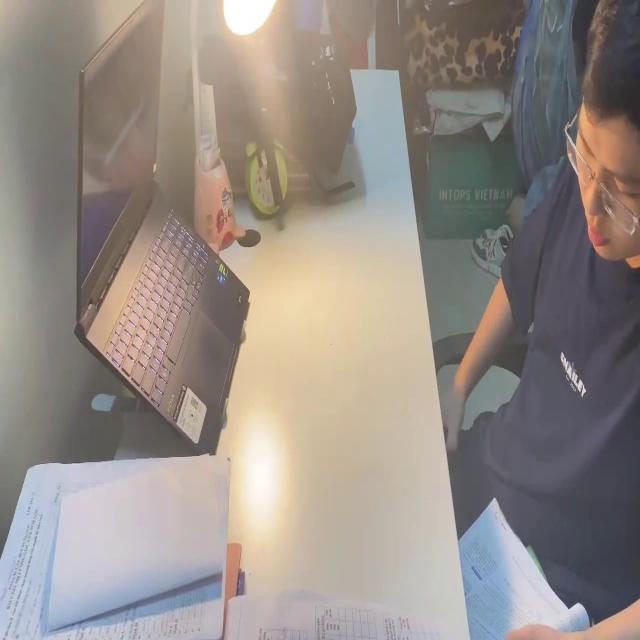book: (0, 442, 232, 640), (458, 484, 590, 640), (232, 594, 427, 640)
laptop: (73, 7, 250, 448)
student: (442, 0, 640, 640)
